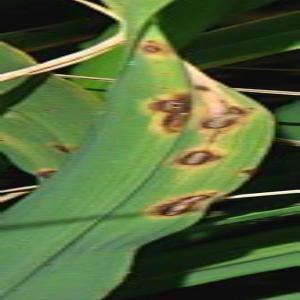Brown_Spot: (141, 181, 227, 225), (162, 135, 234, 180), (136, 87, 198, 119), (195, 108, 244, 141), (147, 109, 194, 141), (213, 95, 260, 122), (133, 41, 173, 62), (189, 77, 214, 97), (142, 34, 162, 44)
